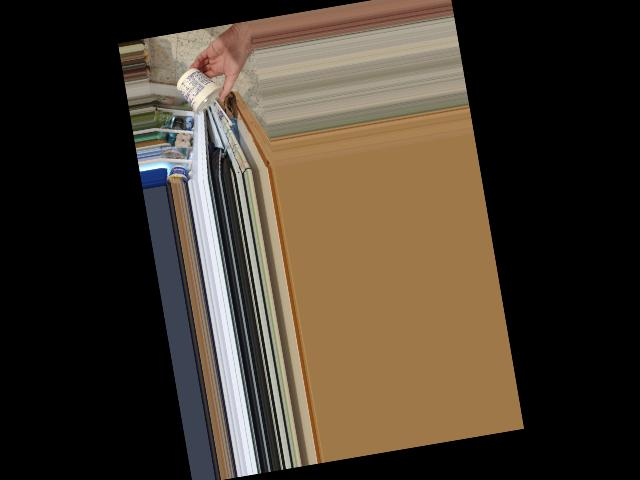cotage: (181, 70, 223, 117)
